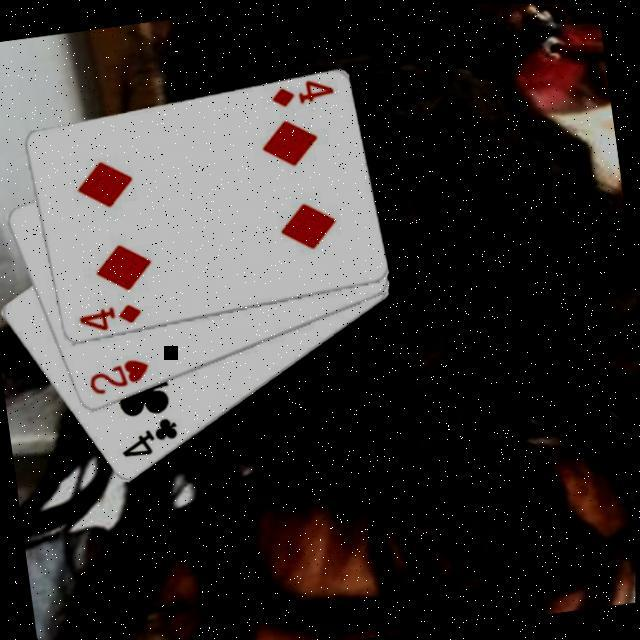2H: (82, 352, 154, 400)
4C: (114, 412, 184, 462)
4D: (73, 298, 144, 336), (265, 76, 337, 110)
